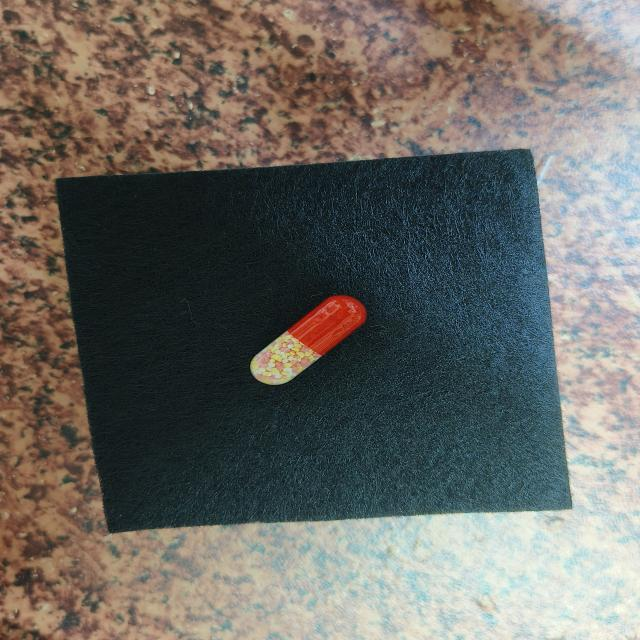Intact Capsule: (250, 295, 367, 385)
